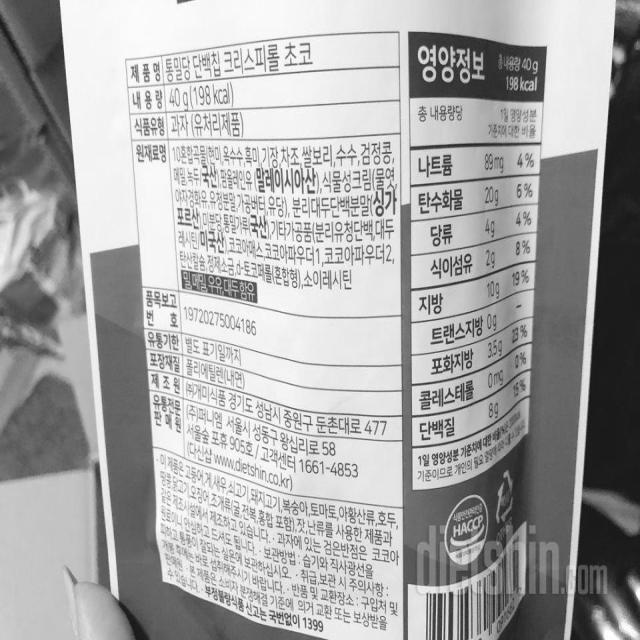Nutrition Label: (411, 10, 546, 487)
